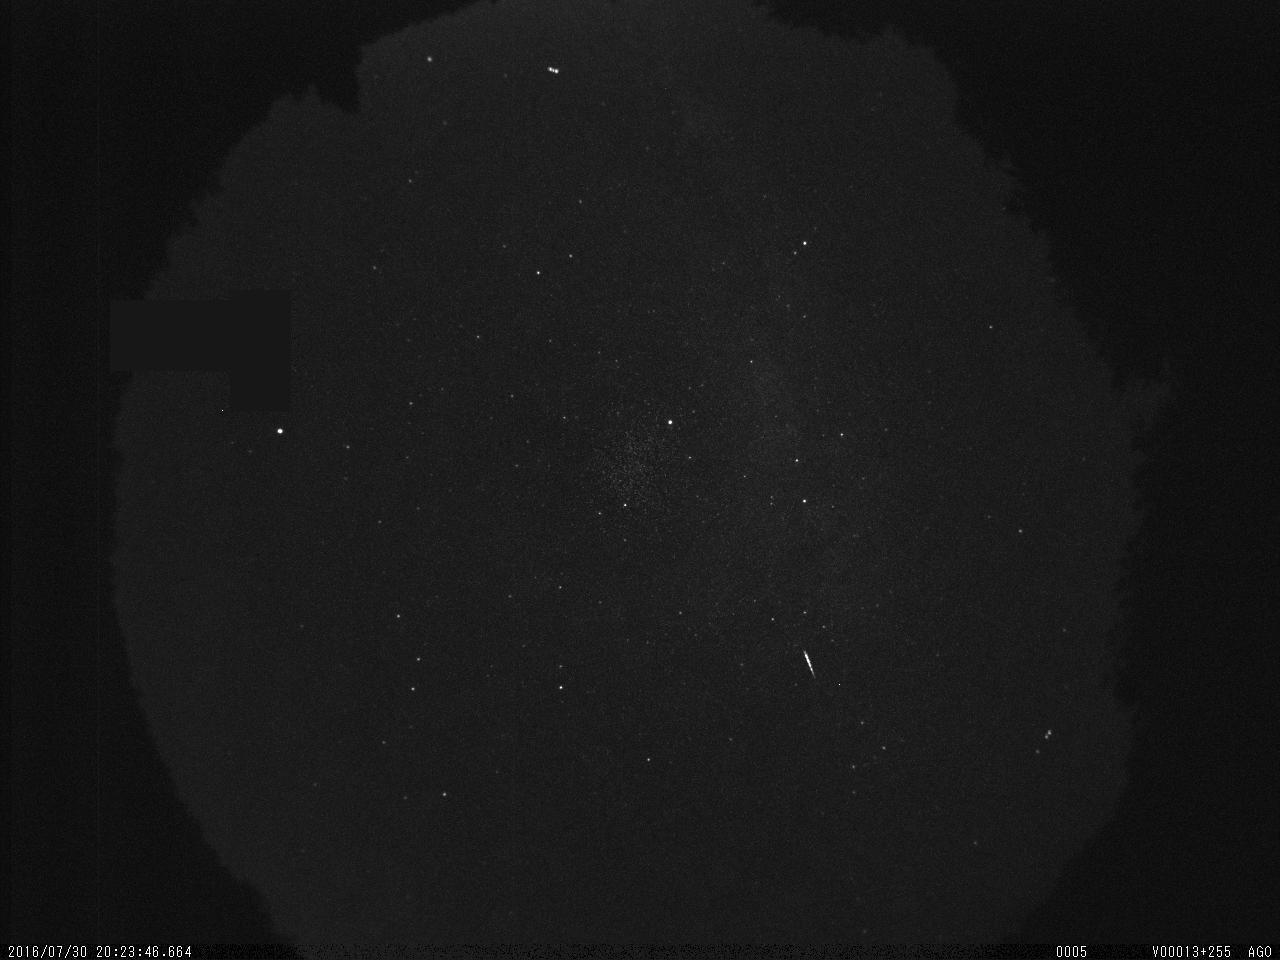meteor: (796, 645, 827, 686)
